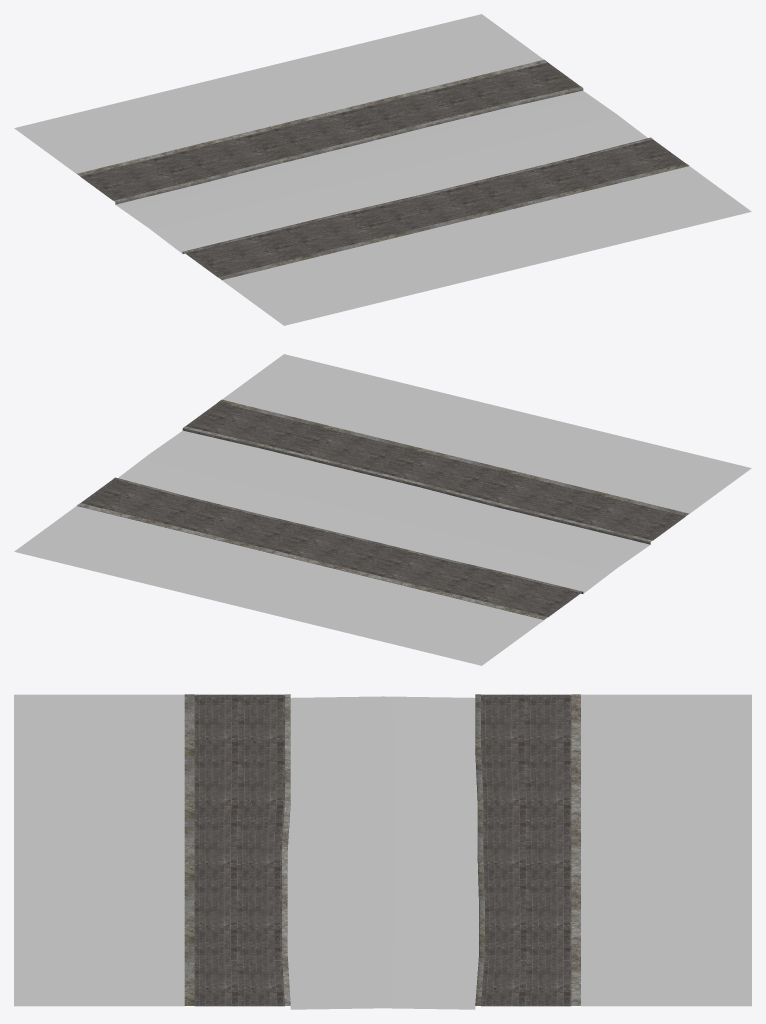
The model's file is Ground_Road.fbx.
3 views of the same model, one above another, from view 1: azimuth 30°, elevation 25°; view 2: azimuth 150°, elevation 25°; view 3: azimuth 270°, elevation 25° (orthographic). The views are drawn at different scales.
Parts seen in each view (by area): view 1: Ground_Road; view 2: Ground_Road; view 3: Ground_Road.
Boxes of the visible parts, x1,y1,x2,y2 form: Ground_Road: (14,14,751,325); Ground_Road: (14,354,751,665); Ground_Road: (14,694,751,1009).
Bounding box in the file's own units: 2000 × 10.75 × 2000.
